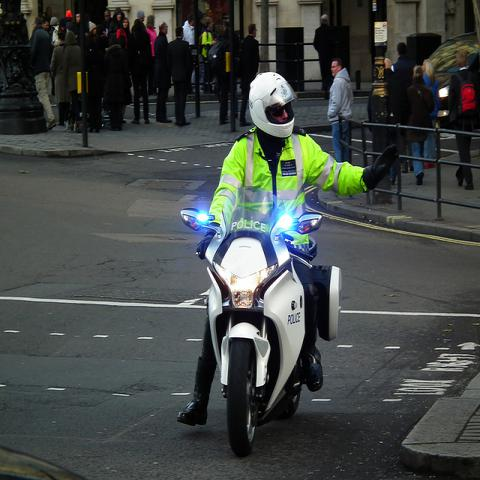car: (428, 30, 479, 132)
motorcycle: (184, 182, 346, 452)
